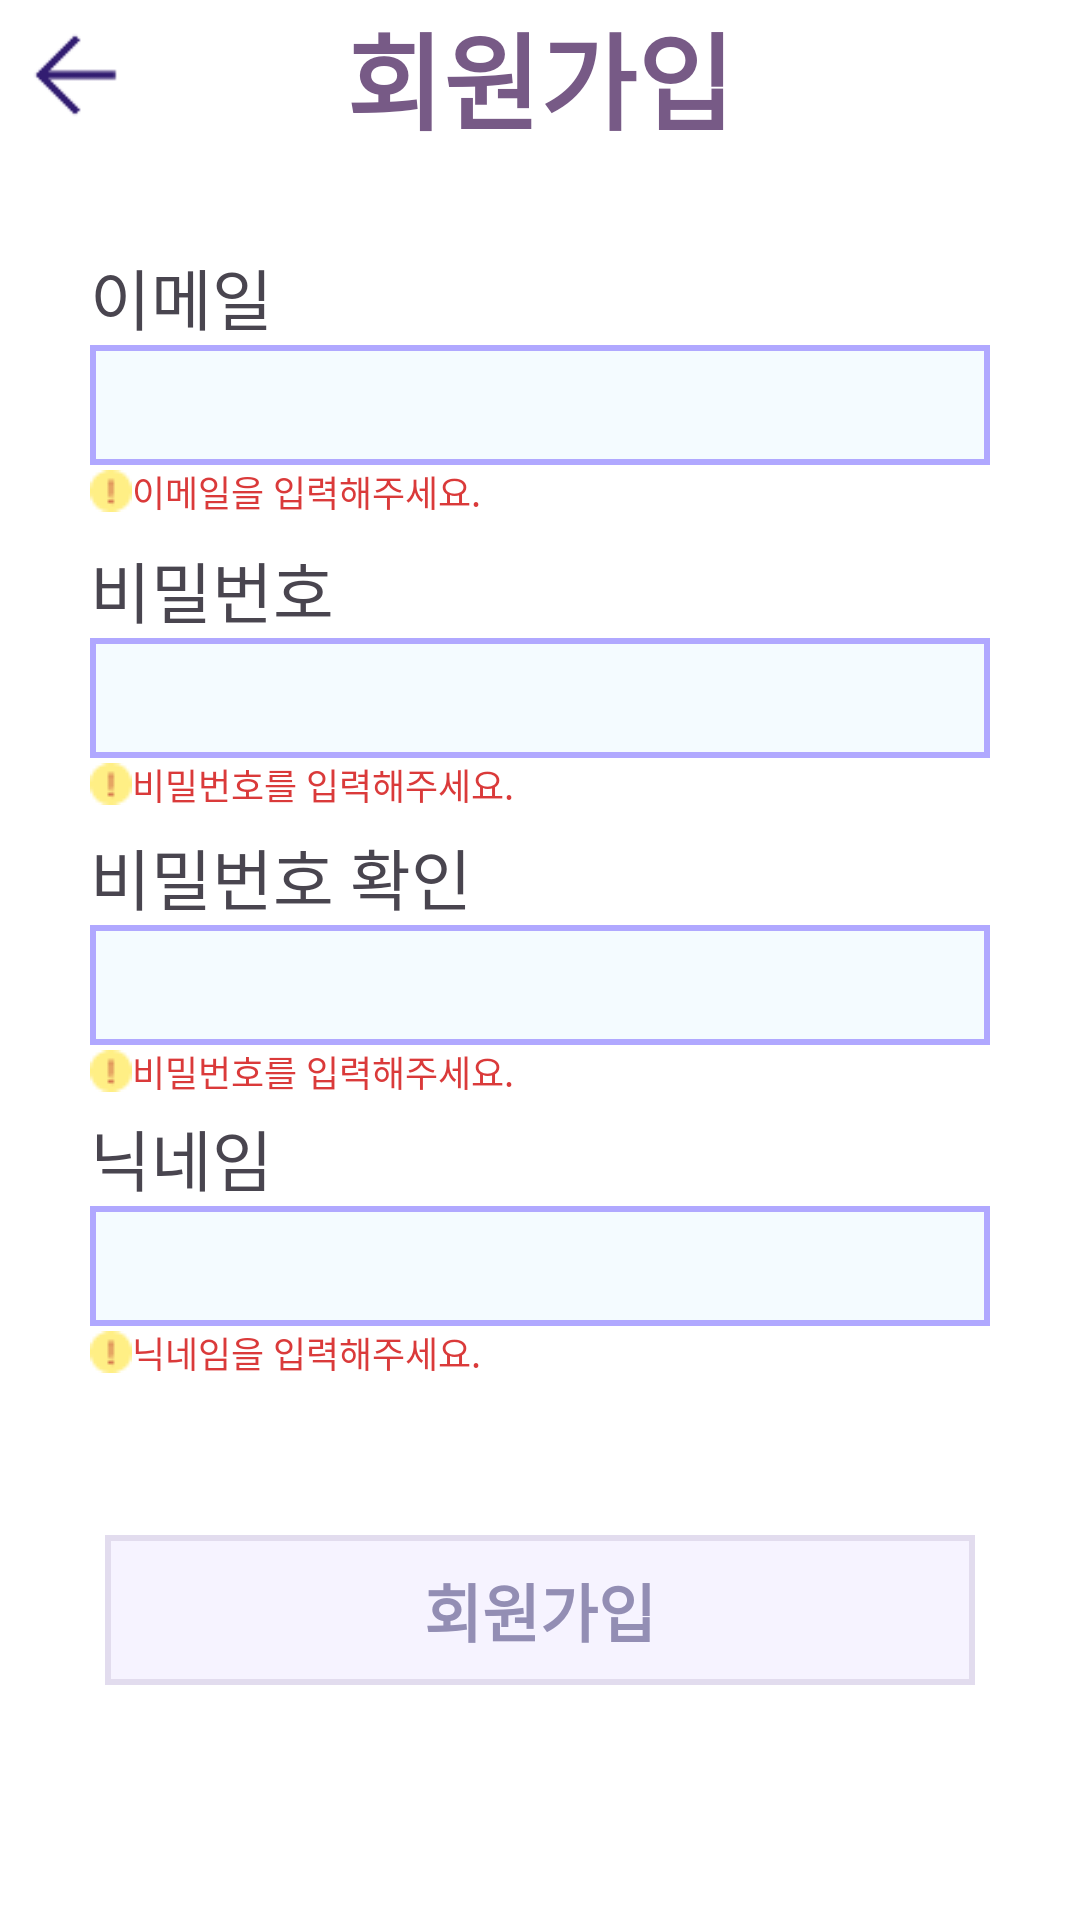

Named icons in this screenshot (1080 x 1920) and their centers, [x,y]:
pic arrowback: [76,75]
